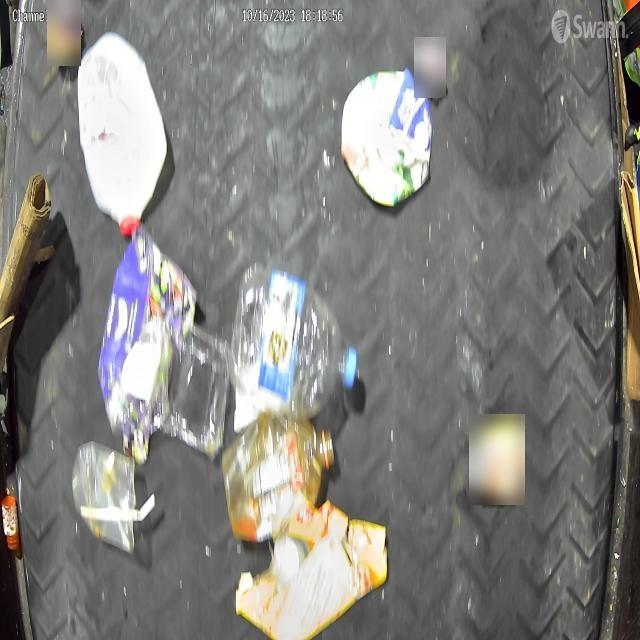milk_jug: (76, 31, 168, 238)
non_white_jug: (98, 227, 200, 444), (220, 421, 336, 543), (340, 66, 432, 210)
plastic_bottle: (230, 262, 358, 418)
